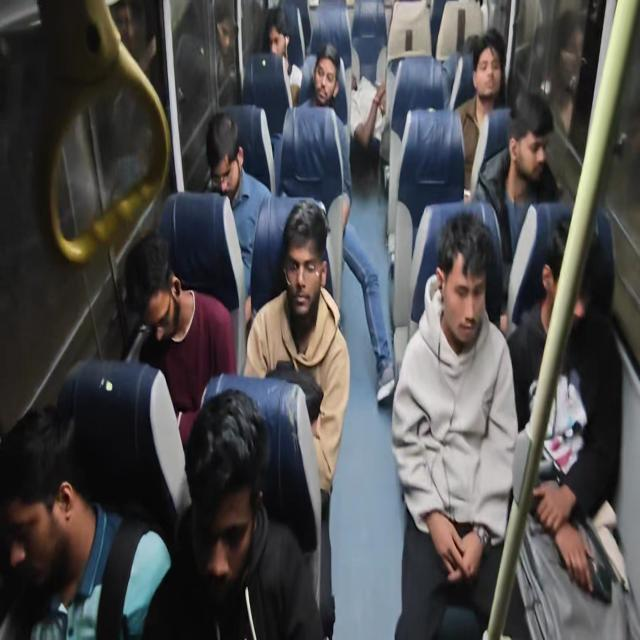person: (2, 1, 634, 638), (391, 210, 519, 638), (507, 208, 625, 638), (243, 198, 351, 635), (141, 388, 325, 638), (1, 403, 173, 639), (294, 43, 395, 402), (124, 230, 237, 448), (56, 357, 192, 531), (470, 88, 560, 325), (203, 111, 272, 313), (506, 222, 570, 431), (454, 28, 510, 198), (543, 9, 587, 140), (298, 43, 348, 125), (264, 7, 302, 106), (212, 2, 241, 105)
